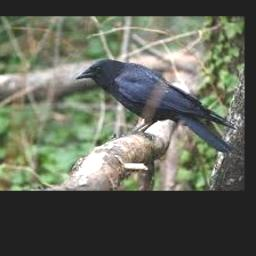Crow: (75, 59, 240, 155)
